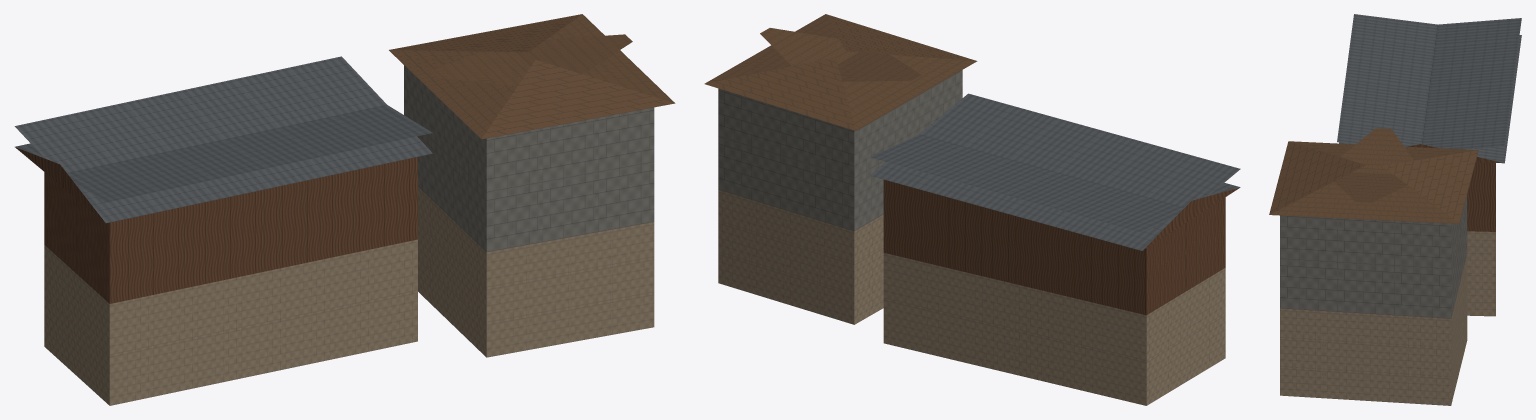
The model's file is bld_c-4_-13_640.gltf.
3 renders of one model, left to right at view 1: azimuth 30°, elevation 25°; view 2: azimuth 150°, elevation 25°; view 3: azimuth 270°, elevation 25°, orthographic. The views are drawn at different scales.
Visible parts, largest first — view 1: bld_c-4_-13_640; view 2: bld_c-4_-13_640; view 3: bld_c-4_-13_640.
Boxes of the visible parts, box(x1,y1,x2,y2) form: bld_c-4_-13_640: box(14, 14, 675, 405); bld_c-4_-13_640: box(704, 14, 1240, 405); bld_c-4_-13_640: box(1269, 14, 1521, 405).
Size of the model in its own units: 27.38 by 11.9 by 13.39.
Materials: 6 (6 with a texture image).
